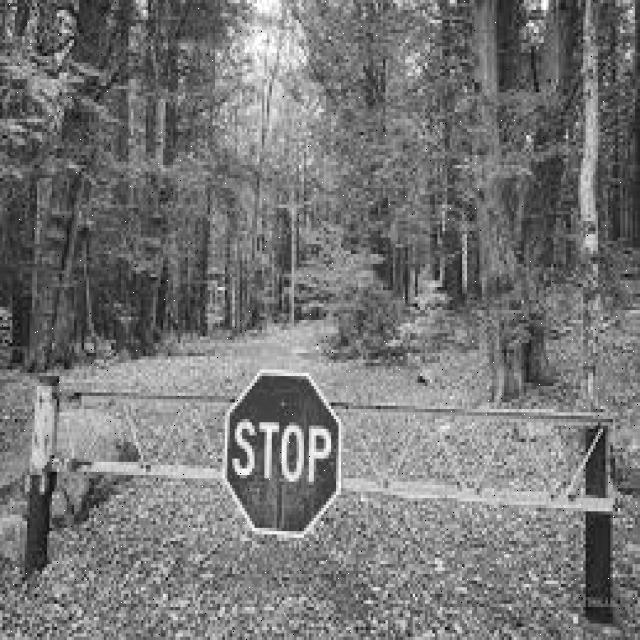stop sign: (224, 373, 342, 540)
